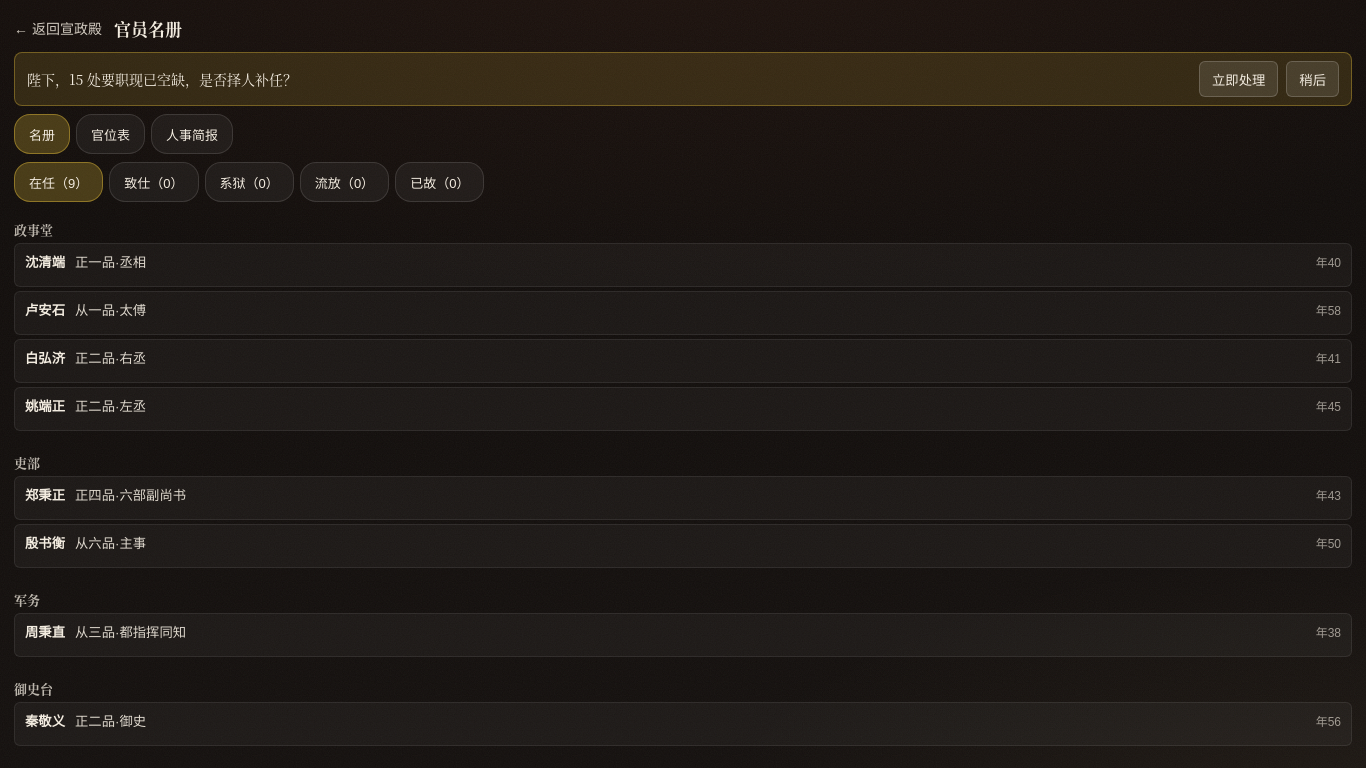
OfficialsScreen — 人事简报 tab (PR3C-2) › empty state when no review yet
What coordinates should you click on to do the following:
click the button "人事简报"
I would click on:
 (192, 134)
Its box is [151, 114, 233, 154].
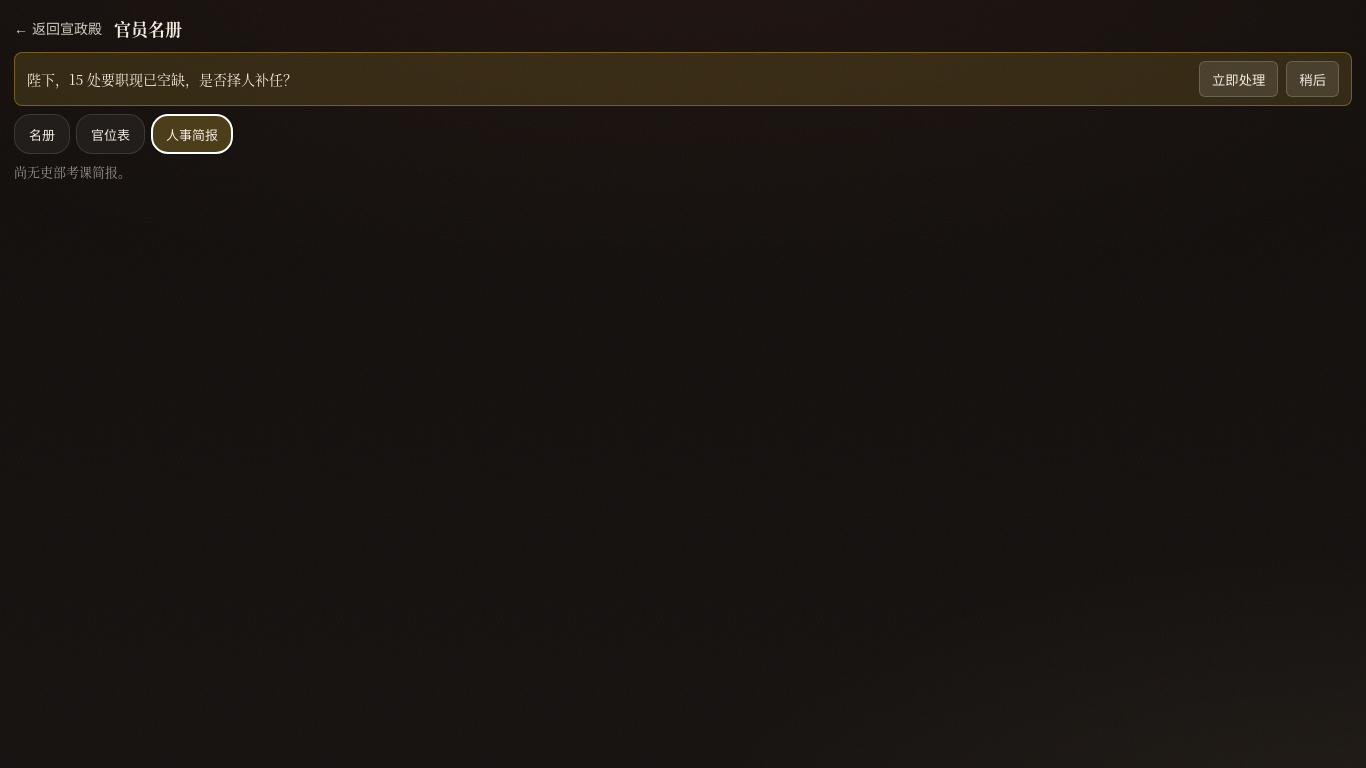
Expected: the text "尚无吏部考课简报。" is shown, [14, 162, 131, 181]
